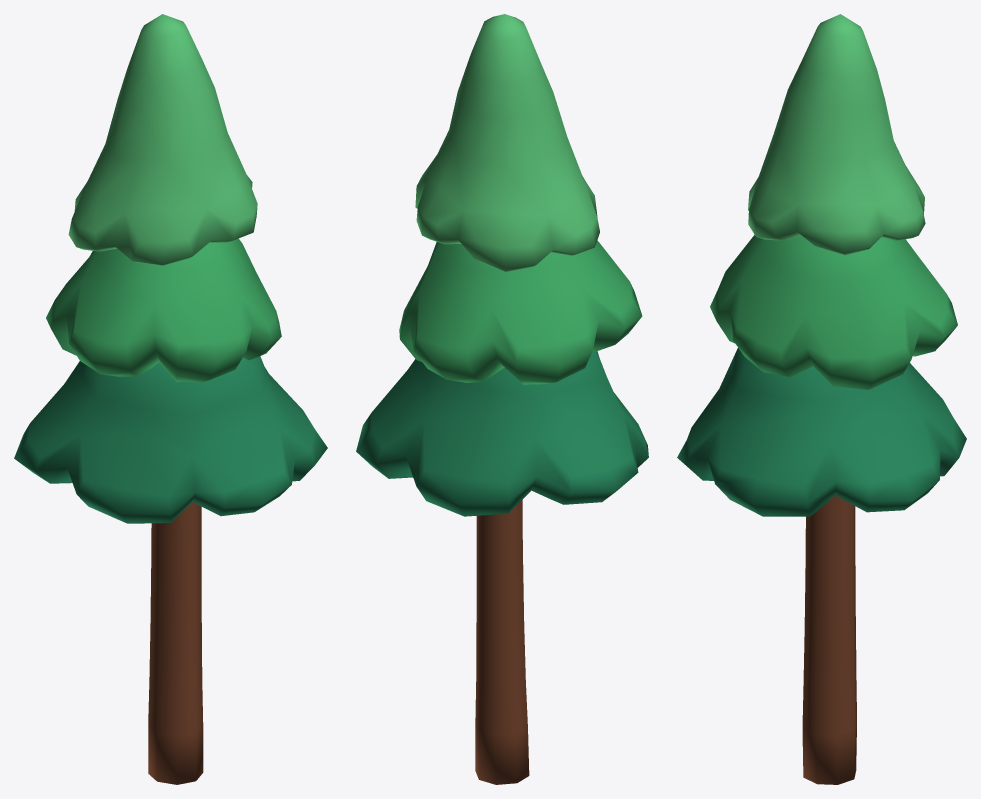
Rendered from Conifer_06_LOD2.gltf.
3 views of the same model, side by side, from view 1: azimuth 30°, elevation 25°; view 2: azimuth 150°, elevation 25°; view 3: azimuth 270°, elevation 25° (orthographic).
Parts seen in each view (by area): view 1: Conifer_06_LOD2_Cylinder.607; view 2: Conifer_06_LOD2_Cylinder.607; view 3: Conifer_06_LOD2_Cylinder.607.
Boxes of the visible parts, <box> form: Conifer_06_LOD2_Cylinder.607: <box>14,14,327,784</box>; Conifer_06_LOD2_Cylinder.607: <box>356,14,648,784</box>; Conifer_06_LOD2_Cylinder.607: <box>677,14,966,784</box>.
Size of the model in its own units: 5.07 by 14.23 by 4.93.
Materials: 1 (1 with a texture image).
